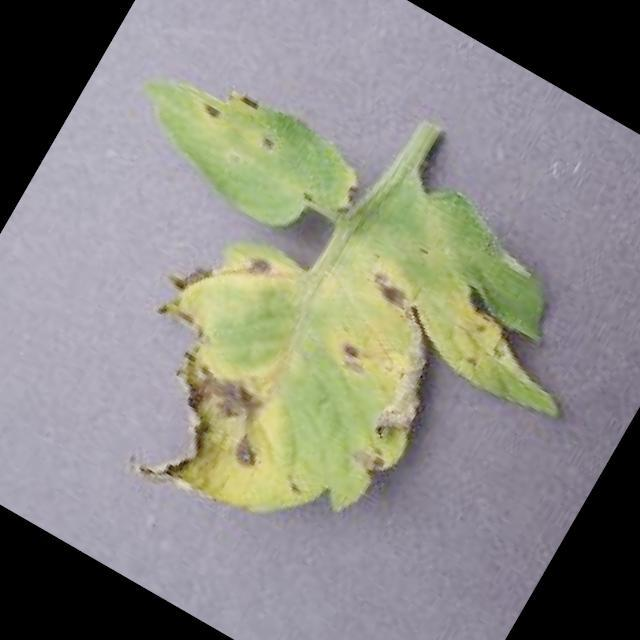Tomato Septoria spot leaf: (0, 25, 629, 638)
